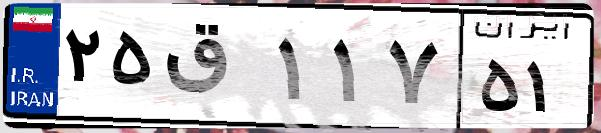1: (270, 28, 330, 110), (330, 28, 385, 110), (525, 38, 570, 115)
2: (57, 26, 110, 100)
5: (475, 38, 525, 113), (110, 28, 158, 98)
7: (385, 28, 445, 110)
ق: (158, 20, 270, 120)
